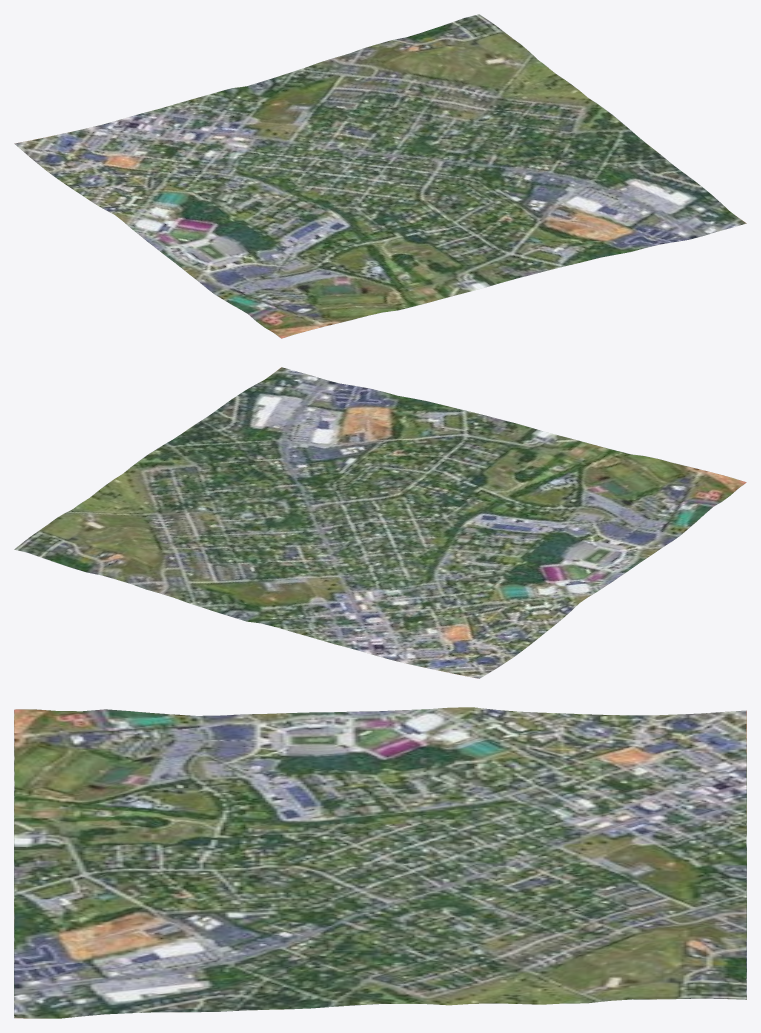
3 views of the same model, one above another, from view 1: azimuth 30°, elevation 25°; view 2: azimuth 150°, elevation 25°; view 3: azimuth 270°, elevation 25° (orthographic). The views are drawn at different scales.
Size of the model in its own units: 1951 by 83.09 by 1942.
1 material, 1 textured.
